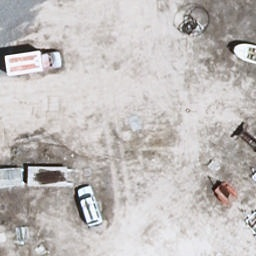car: (73, 184, 104, 229)
truck: (3, 48, 64, 77)
